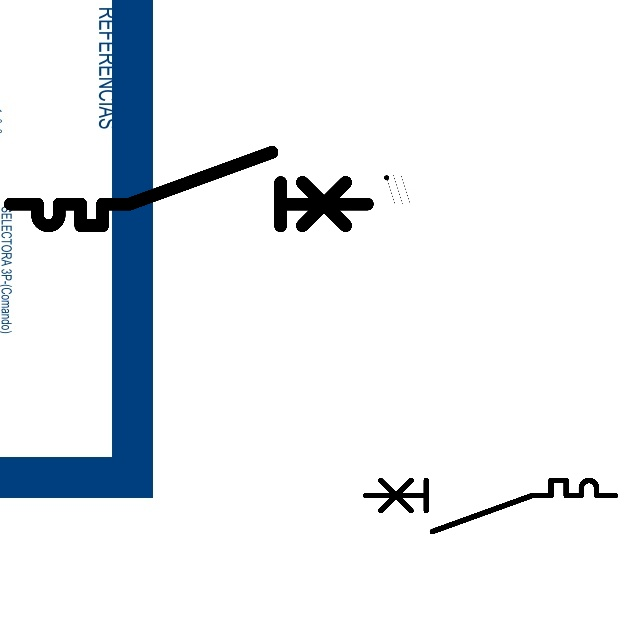interruptor_termomagnetico: (1, 143, 377, 235), (359, 474, 622, 538)
